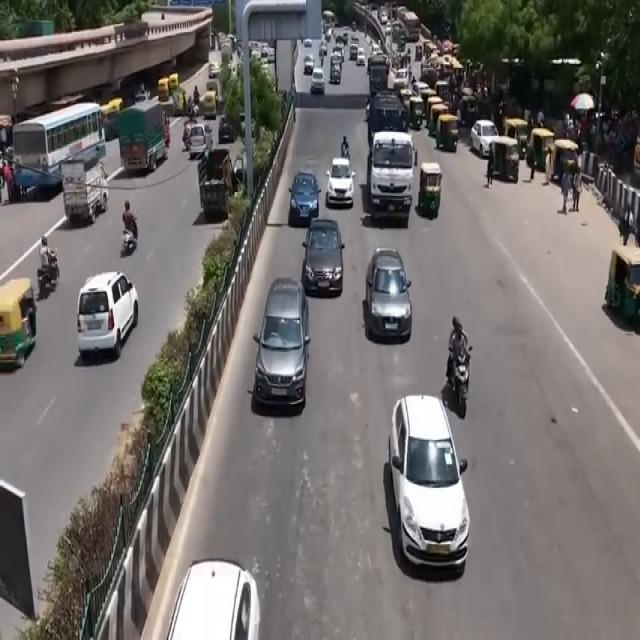BUS: (15, 102, 108, 212)
MOTORCYCLE: (449, 349, 471, 420)
TRUCK: (365, 93, 416, 224)
